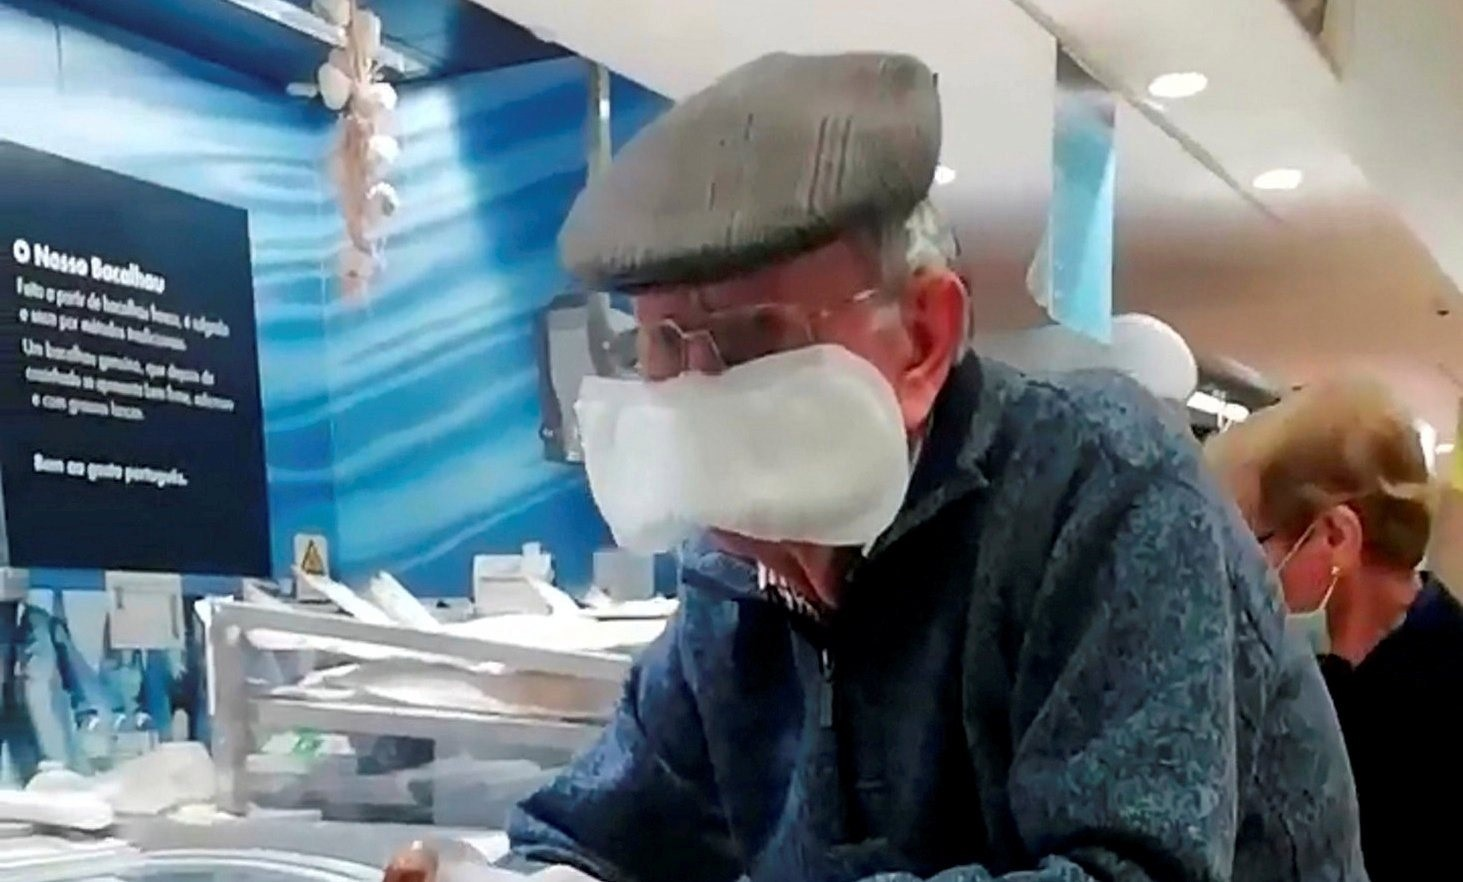face_with_mask: (1219, 380, 1425, 675)
